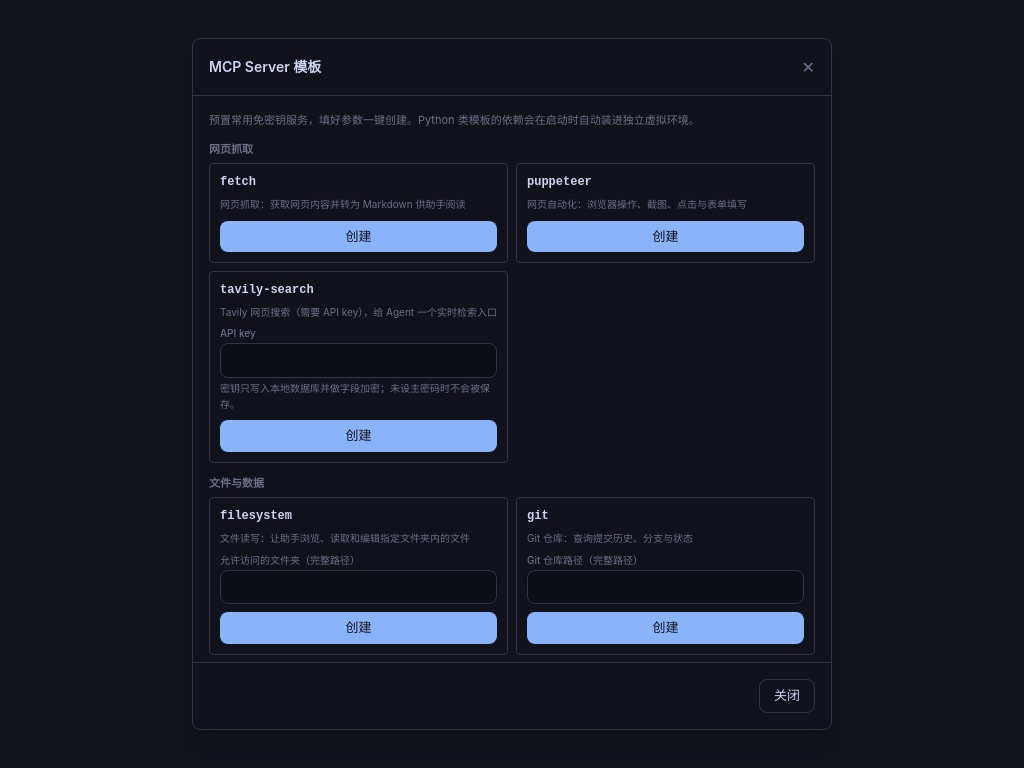
it: ② 模板创建：闸门拒绝不许标「已创建」，成功才标（V4-Iter-172） › 占位符没填就点创建 ⇒ 就地提示"请填写「…」"，一次 saveMcpServer 都不发
The width and height of the screenshot is (1024, 768).
Click the button "创建" below "允许访问的文件夹（完整路径）" at (358, 628), box [220,612,497,644]
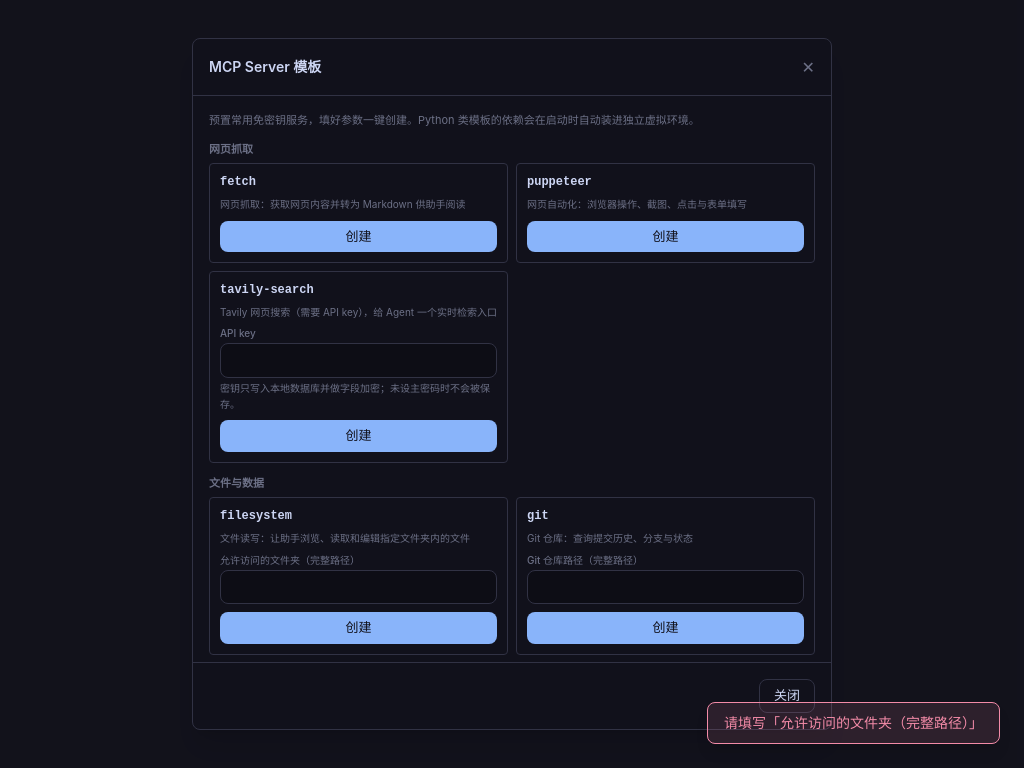
Result: the text "请填写「允许访问的文件夹（完整路径）」" is shown at [707,702,1000,744]
